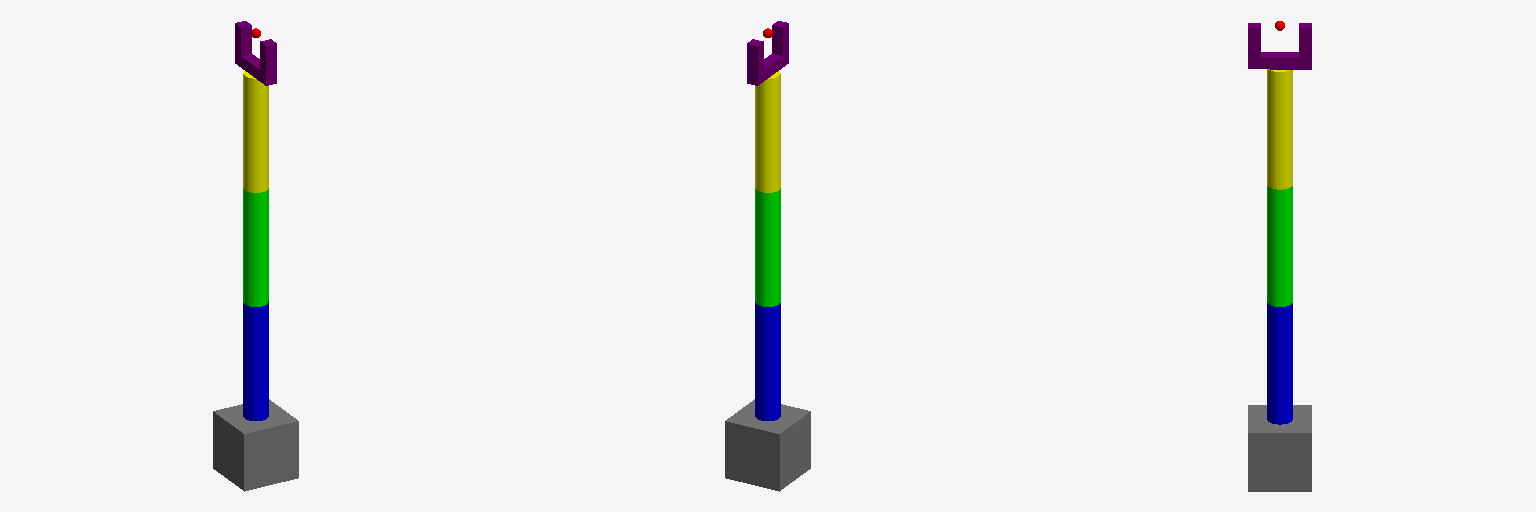
The robot description file, URDF, robot "prrr_manipulator":
<?xml version="1.0"?>
<robot name="prrr_manipulator">

  <!-- Base Link -->
  <link name="base_link">
    <visual>
      <origin xyz="0 0 0" rpy="0 0 0"/>
      <geometry>
        <box size="0.25 0.25 0.25"/>
      </geometry>
      <material name="gray">
        <color rgba="0.5 0.5 0.5 1"/>
      </material>
    </visual>
  </link>

  <!-- Joint -->
  <joint name="prismatic1" type="prismatic">
    <parent link="base_link"/>
    <child link="link1"/>
    <origin xyz="0 0 0.125" rpy="0 0 0"/>
    <axis xyz="0 1 0"/>
    <limit lower="-0.5" upper="0.5" effort="10" velocity="1"/>
  </joint>

  <!-- Link 1 -->
  <link name="link1">
  </link>

  <!-- Joint -->
  <joint name="revolute1" type="revolute">
    <parent link="link1"/>
    <child link="link2"/>
    <origin xyz="0 0 0" rpy="0 0 0"/>
    <axis xyz="1 0 0"/>
    <limit lower="-3.14" upper="3.14" effort="10" velocity="1"/>
  </joint>

  <!-- Link 2 -->
  <link name="link2">
    <visual>
      <origin xyz="0 0 0.25" rpy="0 0 0"/>
      <geometry>
        <cylinder length="0.5" radius="0.05"/>
      </geometry>
      <material name="blue">
        <color rgba="0 0 1 1"/>
      </material>
    </visual>
    <collision>
      <origin xyz="0 0 0.25" rpy="0 0 0"/>
      <geometry>
        <cylinder length="0.5" radius="0.05"/>
      </geometry>
    </collision>
  </link>

  <!-- Joint -->
  <joint name="revolute2" type="revolute">
    <parent link="link2"/>
    <child link="link3"/>
    <origin xyz="0 0 0.5" rpy="0 0 0"/>
    <axis xyz="1 0 0"/>
    <limit lower="-3.14" upper="3.14" effort="10" velocity="1"/>
  </joint>

  <!-- Link 2 -->
  <link name="link3">
    <visual>
      <origin xyz="0 0 0.25" rpy="0 0 0"/>
      <geometry>
        <cylinder length="0.5" radius="0.05"/>
      </geometry>
      <material name="green">
        <color rgba="0 1 0 1"/>
      </material>
    </visual>
    <collision>
      <origin xyz="0 0 0.25" rpy="0 0 0"/>
      <geometry>
        <cylinder length="0.5" radius="0.05"/>
      </geometry>
    </collision>
  </link>

  <!-- Joint -->
  <joint name="revolute3" type="revolute">
    <parent link="link3"/>
    <child link="link4"/>
    <origin xyz="0 0 0.5" rpy="0 0 0"/>
    <axis xyz="1 0 0"/>
    <limit lower="-3.14" upper="3.14" effort="10" velocity="1"/>
  </joint>

  <!-- Link 3 -->
  <link name="link4">
    <visual>
      <origin xyz="0 0 0.25" rpy="0 0 0"/>
      <geometry>
        <cylinder length="0.5" radius="0.05"/>
      </geometry>
      <material name="yellow">
        <color rgba="1 1 0 1"/>
      </material>
    </visual>
    <collision>
      <origin xyz="0 0 0.25" rpy="0 0 0"/>
      <geometry>
        <cylinder length="0.5" radius="0.05"/>
      </geometry>
    </collision>
  </link>

  <!-- Joint -->
  <joint name="fixed1" type="fixed">
    <parent link="link4"/>
    <child link="wrist"/>
    <origin xyz="0 0 0.525" rpy="0 0 1.57"/>
    <axis xyz="0 0 1"/>
    <limit lower="-3.14" upper="3.14" effort="10" velocity="1"/>
  </joint>

  <!-- Wrist Link -->
  <link name="wrist">
    <visual>
      <origin xyz="0 0 0" rpy="0 0 0"/>
      <geometry>
        <box size="0.25 0.05 0.05"/>
      </geometry>
      <material name="purple">
        <color rgba="0.5 0 0.5 1"/>
      </material>
    </visual>
    <collision>
      <origin xyz="0 0 0" rpy="0 0 0"/>
      <geometry>
        <box size="0.25 0.05 0.05"/>
      </geometry>
    </collision>
  </link>

  <!-- Joint -->
  <joint name="fixed2" type="fixed">
    <parent link="wrist"/>
    <child link="left_finger"/>
    <origin xyz="-0.1 0 0.075" rpy="0 0 0"/>
  </joint>

  <!-- Left Finger Link -->
  <link name="left_finger">
    <visual>
      <origin xyz="0 0 0" rpy="0 0 0"/>
      <geometry>
        <box size="0.05 0.05 0.15"/>
      </geometry>
      <material name="purple">
        <color rgba="0.5 0 0.5 1"/>
      </material>
    </visual>
    <collision>
      <origin xyz="0 0 0" rpy="0 0 0"/>
      <geometry>
        <box size="0.05 0.05 0.15"/>
      </geometry>
    </collision>
  </link>

  <!-- Joint -->
  <joint name="fixed3" type="fixed">
    <parent link="wrist"/>
    <child link="right_finger"/>
    <origin xyz="0.1 0 0.075" rpy="0 0 0"/>
  </joint>

  <!-- Right Finger Link -->
  <link name="right_finger">
    <visual>
      <origin xyz="0 0 0" rpy="0 0 0"/>
      <geometry>
        <box size="0.05 0.05 0.15"/>
      </geometry>
      <material name="purple">
        <color rgba="0.5 0 0.5 1"/>
      </material>
    </visual>
    <collision>
      <origin xyz="0 0 0" rpy="0 0 0"/>
      <geometry>
        <box size="0.05 0.05 0.15"/>
      </geometry>
    </collision>
  </link>

  <!-- Center of gripper -->
  <link name="gripper_center">
    <visual>
      <origin xyz="0 0 0.0" rpy="0 0 0"/>
      <geometry>
        <sphere radius="0.02"/> 
      </geometry>
      <material name="red">
        <color rgba="1 0 0 1"/>
      </material>
    </visual>
  </link>

  <!-- Joint -->
  <joint name="fixed4" type="fixed">
    <parent link="wrist"/>
    <child link="gripper_center"/>
    <origin xyz="0 0 0.15" rpy="0 0 0"/>
  </joint>  

</robot>

--- What the picture shows (computed from the rendered views, not written in the file) ---
3 views of the same robot in one strip: view 1: azimuth 30°, elevation 25°; view 2: azimuth 150°, elevation 25°; view 3: azimuth 270°, elevation 25° (orthographic).
Model prrr_manipulator with 9 links and 8 joints (3 revolute, 1 prismatic, 4 fixed), rooted at base_link, posed every joint at zero.
Links seen in each view (by area): view 1: base_link, link2, link3, link4, wrist, right_finger, left_finger; view 2: base_link, link2, link3, link4, wrist, right_finger, left_finger; view 3: base_link, link4, link2, link3, wrist.
Link boxes in pixels (box(x1,y1,x2,y2)): base_link: box(213, 399, 298, 491); link2: box(243, 302, 268, 420); link3: box(243, 188, 268, 306); link4: box(243, 71, 268, 192); wrist: box(235, 52, 276, 85); right_finger: box(235, 21, 251, 61); left_finger: box(260, 39, 276, 78); base_link: box(725, 399, 810, 491); link2: box(755, 302, 780, 420); link3: box(755, 188, 780, 306); link4: box(755, 71, 780, 192); wrist: box(747, 52, 788, 85); right_finger: box(747, 39, 763, 78); left_finger: box(772, 21, 788, 55); base_link: box(1248, 405, 1311, 491); link4: box(1267, 69, 1292, 189); link2: box(1267, 303, 1292, 424); link3: box(1267, 186, 1292, 306); wrist: box(1248, 52, 1311, 69).
Size in the robot's own frame: 0.25 by 0.25 by 1.95 metres.
Geometry: primitives only (box / cylinder / sphere), no mesh files.